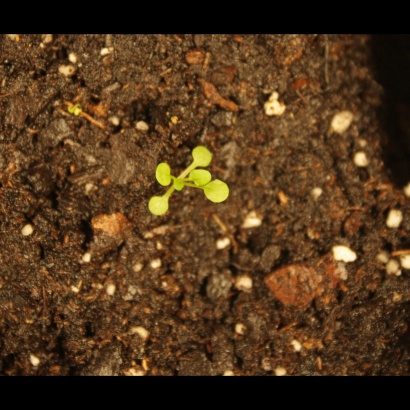leaf: (149, 158, 178, 190), (145, 191, 174, 221), (203, 179, 233, 208), (188, 143, 217, 169), (186, 163, 213, 188)
